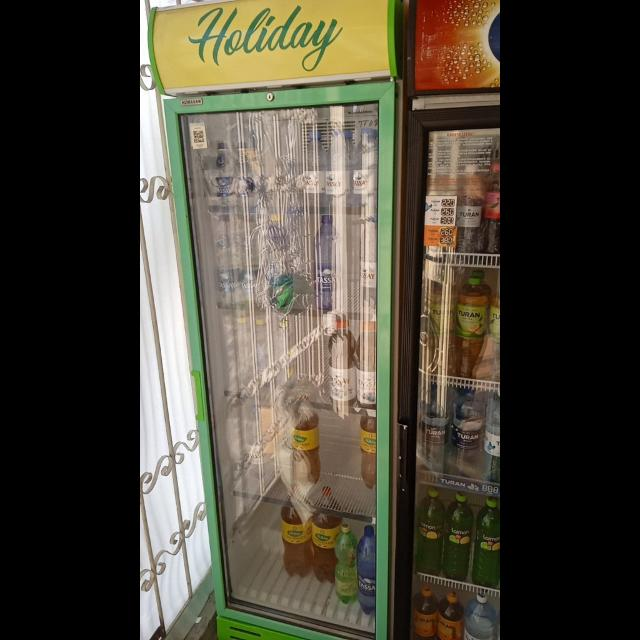Cooling-Display: (145, 1, 401, 640)
